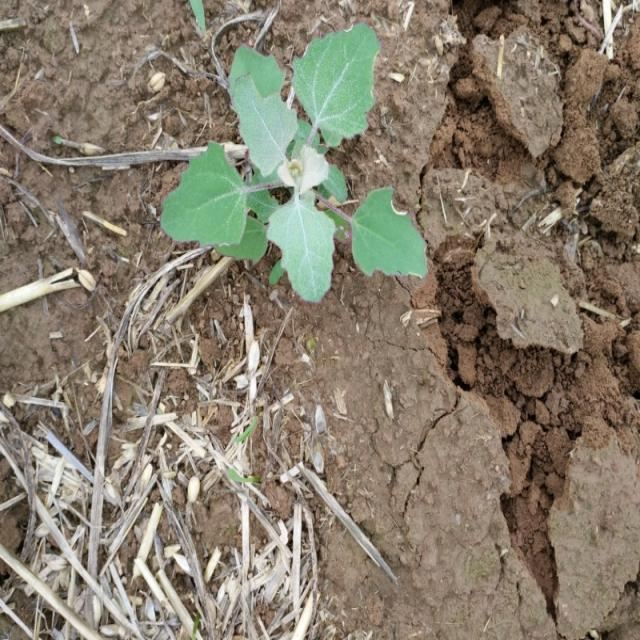goosefoots: (162, 48, 440, 309)
